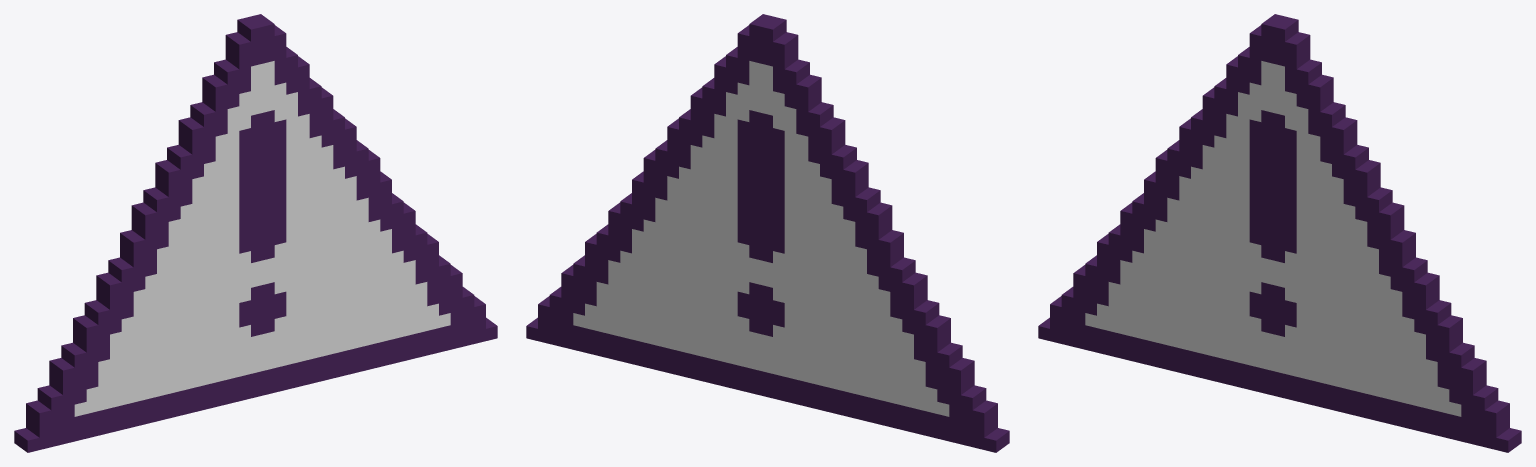
The model's file is warningSign.obj.
3 renders of one model, left to right at view 1: azimuth 30°, elevation 25°; view 2: azimuth 150°, elevation 25°; view 3: azimuth 330°, elevation 25°, orthographic.
Bounding box in the file's own units: 40 × 30 × 2.
